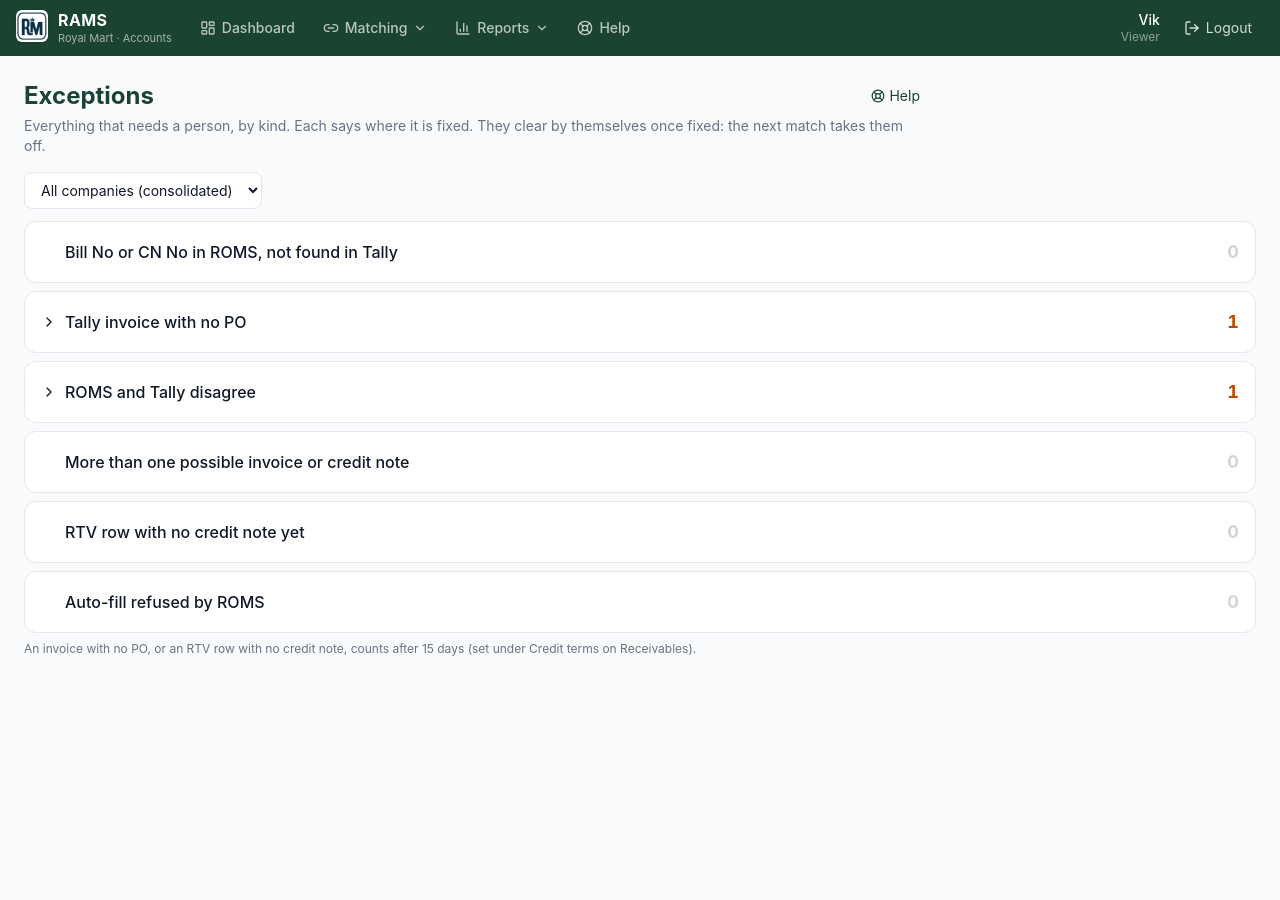
Scenario: Exceptions › each kind with its count; opening one lists them and says where to fix it
The width and height of the screenshot is (1280, 900).
Click the button "ROMS and Tally disagree 1" at x=160, y=392, box [25,362,1255,422]
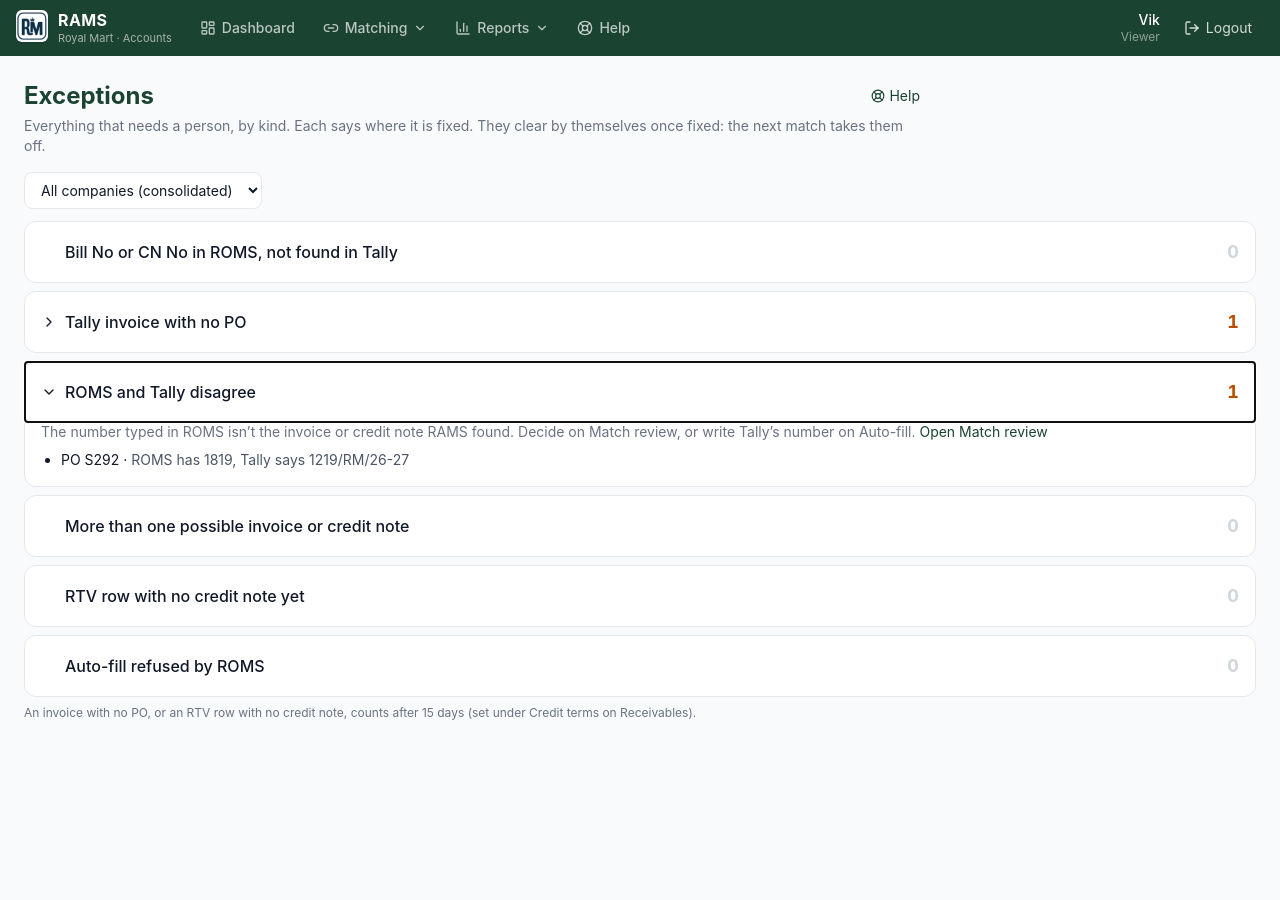
Expected: the button "Bill No or CN No in ROMS, not found in Tally 0" is disabled, [25,222,1255,282]
Expected: the text "ROMS has 1819, Tally says 1219/RM/26-27" is shown, [131,451,409,468]
